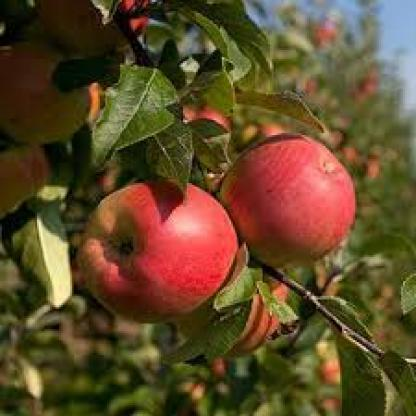apple: (78, 186, 246, 324), (231, 140, 364, 260)
